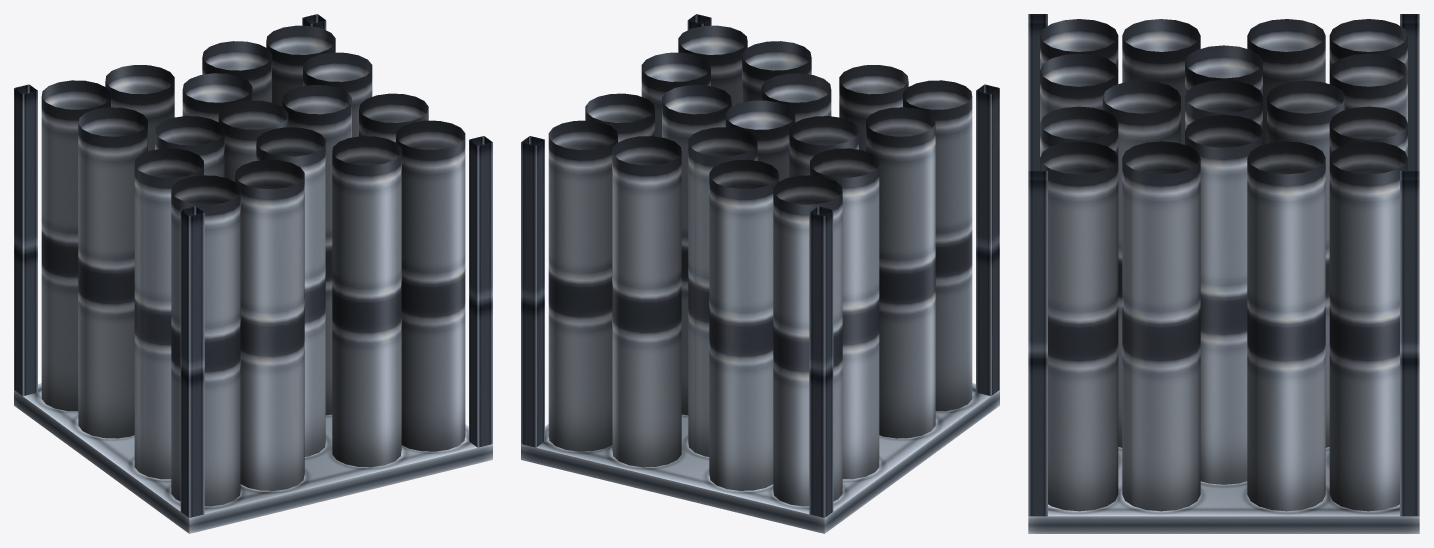
Rendered from suz_frame_bottom.obj.
3 views of the same model, side by side, from view 1: azimuth 30°, elevation 25°; view 2: azimuth 150°, elevation 25°; view 3: azimuth 270°, elevation 25° (orthographic). The views are drawn at different scales.
Visible parts, largest first — view 1: suz_frame_bot; view 2: suz_frame_bot; view 3: suz_frame_bot.
Part boxes in pixels (bbox=[...]): suz_frame_bot: bbox=[14, 14, 492, 533]; suz_frame_bot: bbox=[521, 14, 999, 533]; suz_frame_bot: bbox=[1028, 14, 1419, 533].
Size of the model in its own units: 1 by 1 by 1.
